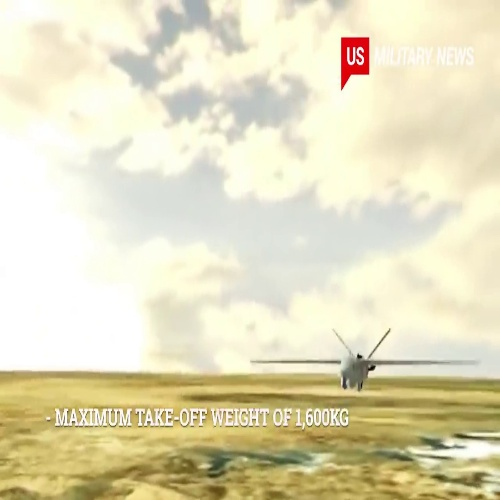uav: (248, 326, 475, 393)
